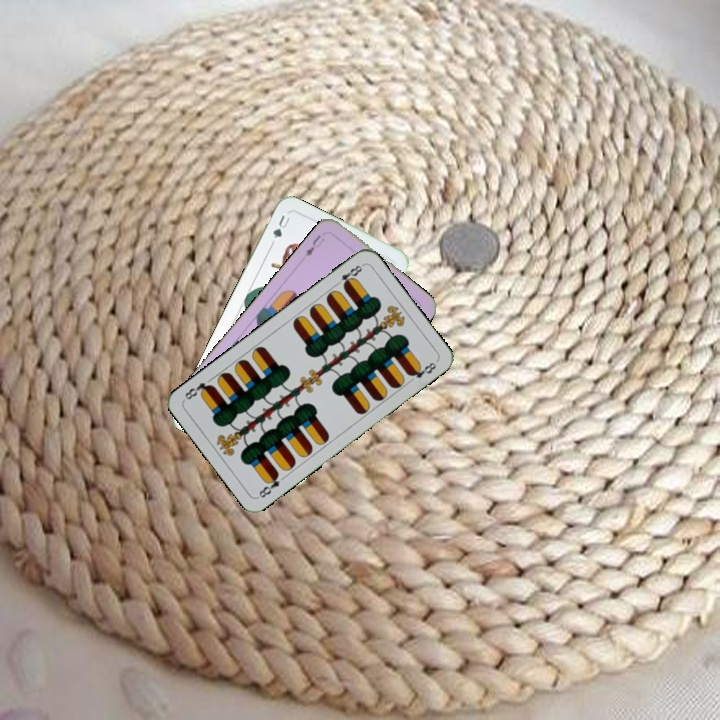E8: (331, 260, 366, 290), (254, 468, 283, 501)
EU: (301, 231, 327, 259)
GU: (269, 211, 293, 241)
